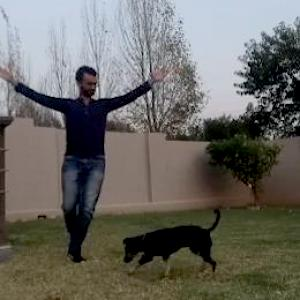takeoff: (1, 66, 166, 262)
